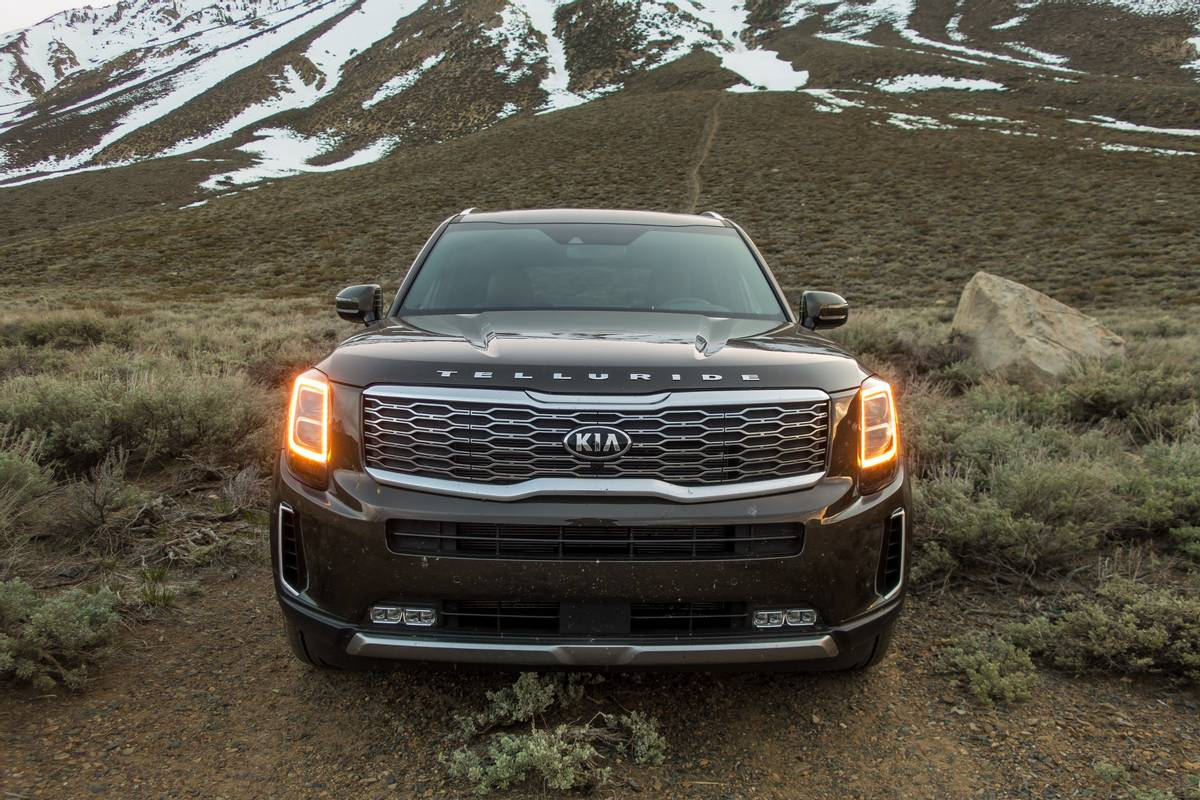car: (268, 207, 910, 678)
